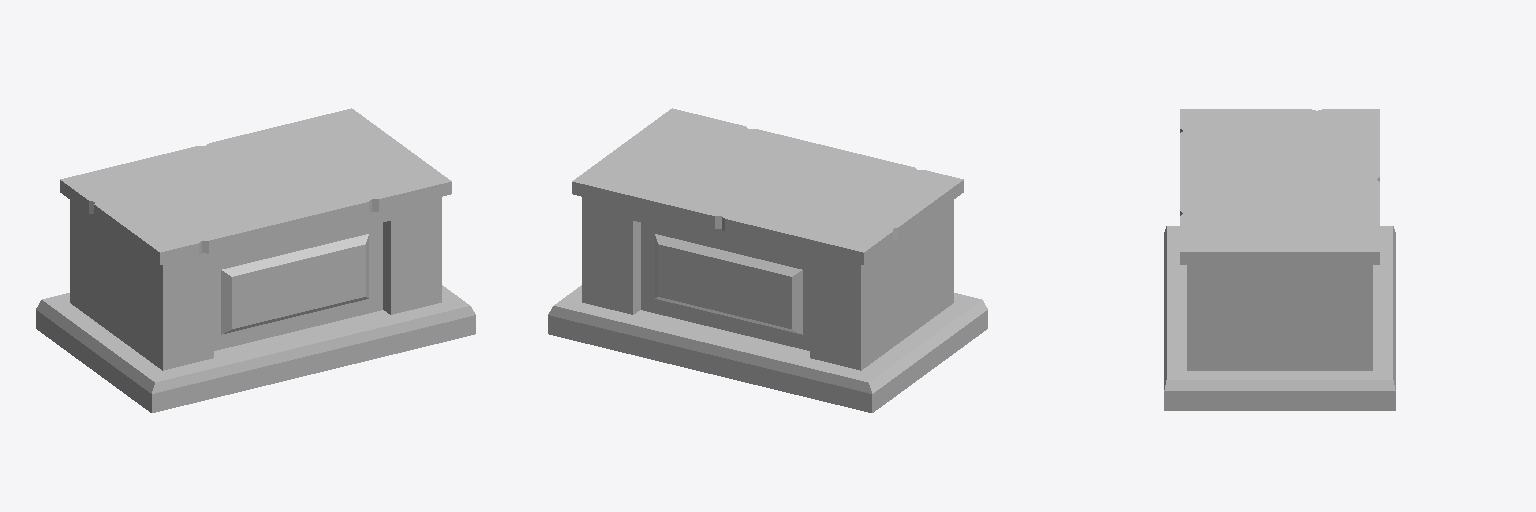
Rendered from altarWood.obj.
3 renders of one model, left to right at view 1: azimuth 30°, elevation 25°; view 2: azimuth 150°, elevation 25°; view 3: azimuth 270°, elevation 25°, orthographic.
Parts seen in each view (by area): view 1: altarWood; view 2: altarWood; view 3: altarWood.
Part boxes in pixels (bbox=[...]): altarWood: bbox=[36, 108, 475, 412]; altarWood: bbox=[548, 108, 987, 412]; altarWood: bbox=[1164, 109, 1395, 410].
Size of the model in its own units: 1.06 by 0.47 by 0.6532.